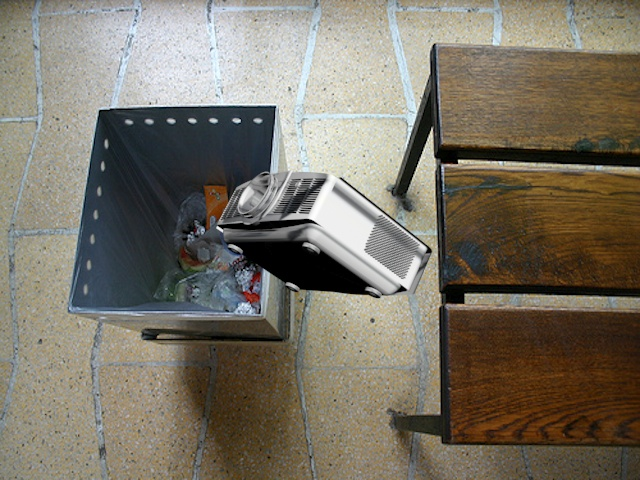projector: (217, 161, 440, 304)
